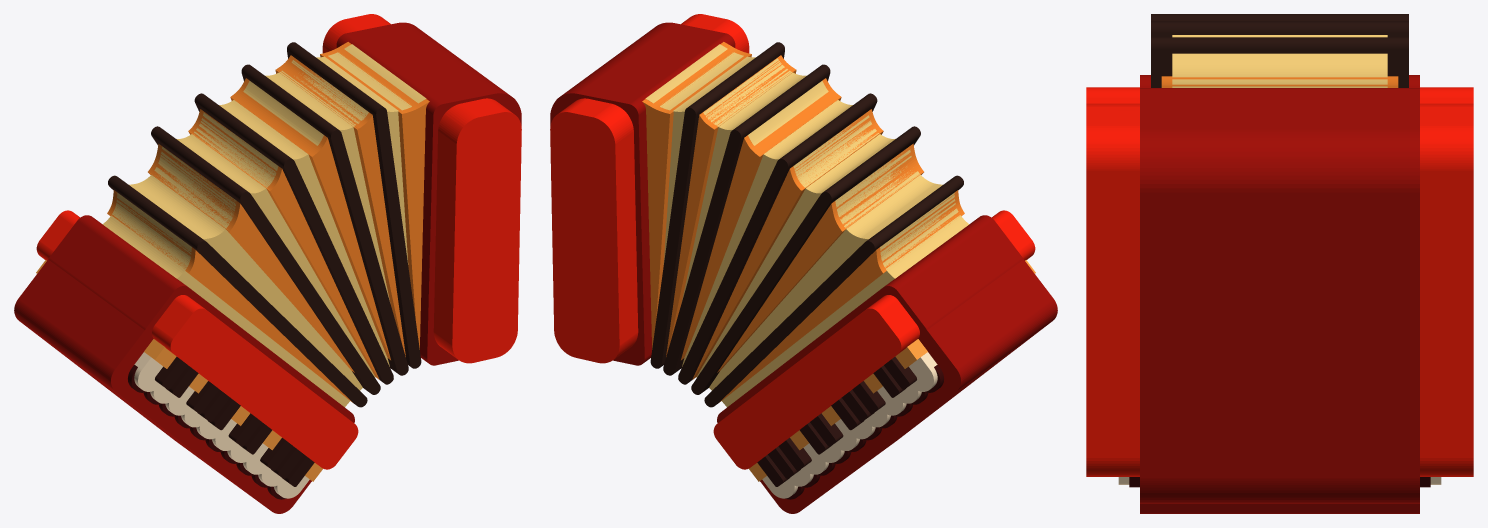
3 views of the same model, side by side, from view 1: azimuth 30°, elevation 25°; view 2: azimuth 150°, elevation 25°; view 3: azimuth 270°, elevation 25° (orthographic). The views are drawn at different scales.
Visible parts, largest first — view 1: U+1FA97_layer00_obj00, U+1FA97_layer08_obj01, U+1FA97_layer08_obj00, U+1FA97_layer03_obj00, U+1FA97_layer03_obj02, U+1FA97_layer03_obj01, U+1FA97_layer02_obj02, U+1FA97_layer02_obj00, U+1FA97_layer02_obj03, U+1FA97_layer01_obj00, U+1FA97_layer02_obj01, U+1FA97_layer01_obj02 (+8 smaller); view 2: U+1FA97_layer00_obj00, U+1FA97_layer08_obj01, U+1FA97_layer08_obj00, U+1FA97_layer03_obj00, U+1FA97_layer03_obj02, U+1FA97_layer03_obj01, U+1FA97_layer02_obj02, U+1FA97_layer02_obj00, U+1FA97_layer02_obj03, U+1FA97_layer01_obj00, U+1FA97_layer02_obj01, U+1FA97_layer02_obj04 (+8 smaller); view 3: U+1FA97_layer03_obj02, U+1FA97_layer08_obj01, U+1FA97_layer00_obj00, U+1FA97_layer02_obj02, U+1FA97_layer02_obj00, U+1FA97_layer03_obj00, U+1FA97_layer02_obj03, U+1FA97_layer08_obj00, U+1FA97_layer01_obj00.
Part boxes in pixels (left/top/right/bottom): U+1FA97_layer00_obj00: left=102, top=44, right=426, bottom=407; U+1FA97_layer08_obj01: left=322, top=14, right=521, bottom=363; U+1FA97_layer08_obj00: left=36, top=210, right=358, bottom=469; U+1FA97_layer03_obj00: left=14, top=259, right=311, bottom=513; U+1FA97_layer03_obj02: left=336, top=22, right=521, bottom=365; U+1FA97_layer03_obj01: left=48, top=215, right=354, bottom=423; U+1FA97_layer02_obj02: left=287, top=42, right=421, bottom=368; U+1FA97_layer02_obj00: left=241, top=64, right=408, bottom=375; U+1FA97_layer02_obj03: left=194, top=93, right=393, bottom=384; U+1FA97_layer01_obj00: left=320, top=42, right=429, bottom=349; U+1FA97_layer02_obj01: left=151, top=126, right=380, bottom=394; U+1FA97_layer01_obj02: left=148, top=143, right=354, bottom=372; U+1FA97_layer00_obj00: left=645, top=44, right=969, bottom=407; U+1FA97_layer08_obj01: left=550, top=14, right=749, bottom=363; U+1FA97_layer08_obj00: left=713, top=210, right=1035, bottom=469; U+1FA97_layer03_obj00: left=760, top=259, right=1057, bottom=513; U+1FA97_layer03_obj02: left=550, top=22, right=735, bottom=365; U+1FA97_layer03_obj01: left=717, top=215, right=1023, bottom=423; U+1FA97_layer02_obj02: left=650, top=42, right=784, bottom=368; U+1FA97_layer02_obj00: left=663, top=64, right=830, bottom=375; U+1FA97_layer02_obj03: left=678, top=93, right=877, bottom=384; U+1FA97_layer01_obj00: left=642, top=42, right=751, bottom=349; U+1FA97_layer02_obj01: left=691, top=126, right=920, bottom=394; U+1FA97_layer02_obj04: left=704, top=175, right=963, bottom=407; U+1FA97_layer03_obj02: left=1140, top=88, right=1419, bottom=503; U+1FA97_layer08_obj01: left=1086, top=103, right=1473, bottom=476; U+1FA97_layer00_obj00: left=1172, top=35, right=1387, bottom=87; U+1FA97_layer02_obj02: left=1151, top=37, right=1408, bottom=87; U+1FA97_layer02_obj00: left=1151, top=21, right=1408, bottom=37; U+1FA97_layer03_obj00: left=1140, top=504, right=1419, bottom=513; U+1FA97_layer02_obj03: left=1151, top=14, right=1408, bottom=21; U+1FA97_layer08_obj00: left=1086, top=87, right=1473, bottom=103; U+1FA97_layer01_obj00: left=1161, top=76, right=1398, bottom=87.
Bounding box in the file's own units: 0.3188 × 0.2802 × 0.18.
